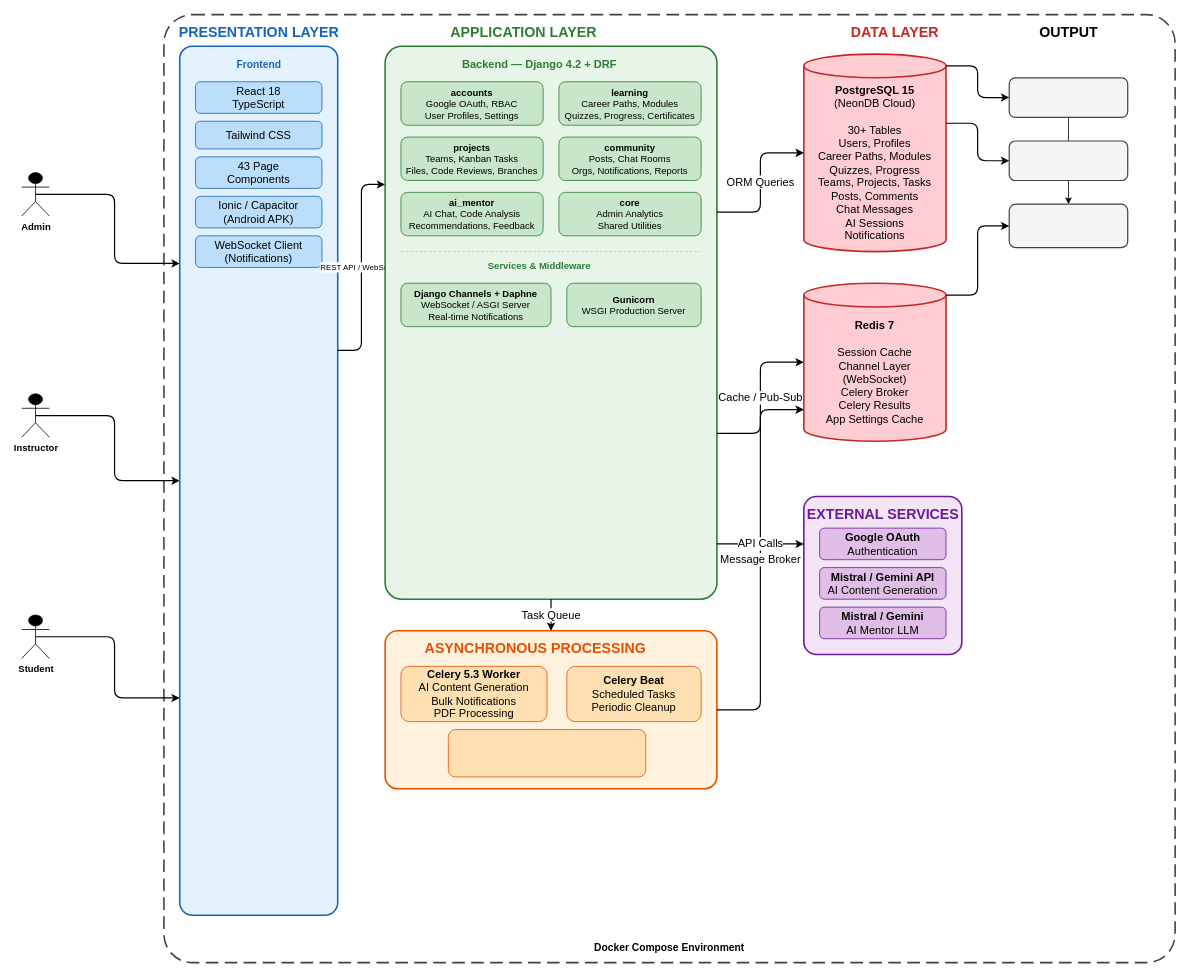
Some shapes in this 1190 by 976 pixel diagram are drawn without their labels. Here are the shapes that lost their labels. From the top down, the centre of each, then its label:
At point (1068, 97): "Web Application (Browser)".
At point (1068, 160): "Android APK (Capacitor)".
At point (1068, 225): "Real-time Notifications (WebSocket)".
At point (547, 753): "AI Services Google Gemini API Mistral / OpenRouter PDF Extraction & NLP".
